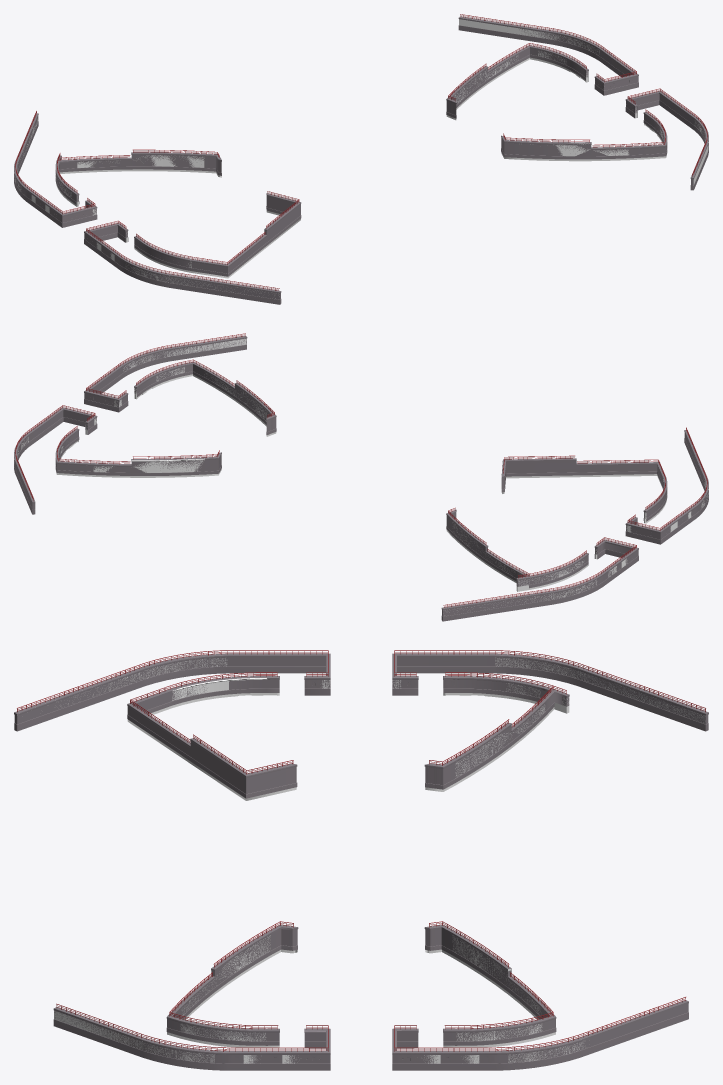
File: objects_un_t04wall01.gltf
3 views of the same model, one above another, from view 1: azimuth 30°, elevation 25°; view 2: azimuth 150°, elevation 25°; view 3: azimuth 270°, elevation 25° (orthographic). The views are drawn at different scales.
Parts seen in each view (by area): view 1: um_objects_un_t04wall01_model_lod0Shape:objects_un_t04wall01 (×3), um_objects_un_t04wall01_model_lod1Shape:objects_un_t04wall01, um_objects_un_t04wall01_model_lod2Shape:objects_un_t04wall01; view 2: um_objects_un_t04wall01_model_lod0Shape:objects_un_t04wall01 (×3), um_objects_un_t04wall01_model_lod1Shape:objects_un_t04wall01, um_objects_un_t04wall01_model_lod2Shape:objects_un_t04wall01; view 3: um_objects_un_t04wall01_model_lod0Shape:objects_un_t04wall01 (×3), um_objects_un_t04wall01_model_lod1Shape:objects_un_t04wall01, um_objects_un_t04wall01_model_lod2Shape:objects_un_t04wall01.
Part boxes in pixels (x1=…): um_objects_un_t04wall01_model_lod0Shape:objects_un_t04wall01 (×3): x1=14, y1=14, x2=708, y2=304; um_objects_un_t04wall01_model_lod1Shape:objects_un_t04wall01: x1=59, y1=17, x2=707, y2=237; um_objects_un_t04wall01_model_lod2Shape:objects_un_t04wall01: x1=27, y1=18, x2=707, y2=293; um_objects_un_t04wall01_model_lod0Shape:objects_un_t04wall01 (×3): x1=14, y1=333, x2=708, y2=621; um_objects_un_t04wall01_model_lod1Shape:objects_un_t04wall01: x1=16, y1=336, x2=705, y2=577; um_objects_un_t04wall01_model_lod2Shape:objects_un_t04wall01: x1=15, y1=337, x2=695, y2=610; um_objects_un_t04wall01_model_lod0Shape:objects_un_t04wall01 (×3): x1=14, y1=650, x2=708, y2=1070; um_objects_un_t04wall01_model_lod1Shape:objects_un_t04wall01: x1=54, y1=657, x2=687, y2=1054; um_objects_un_t04wall01_model_lod2Shape:objects_un_t04wall01: x1=14, y1=655, x2=708, y2=1060.
Bounding box in the file's own units: 205 × 7.11 × 151.
Materials: 3 (2 with a texture image).
